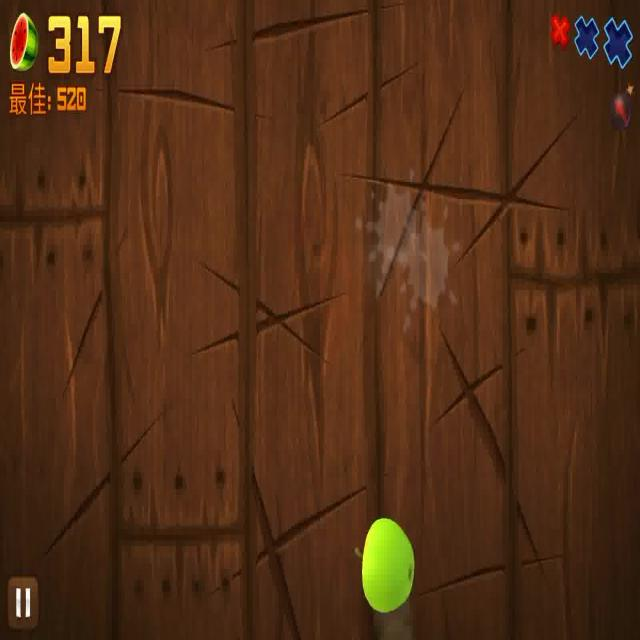fruit: (353, 506, 418, 612)
